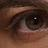eye: (27, 17, 43, 30)
